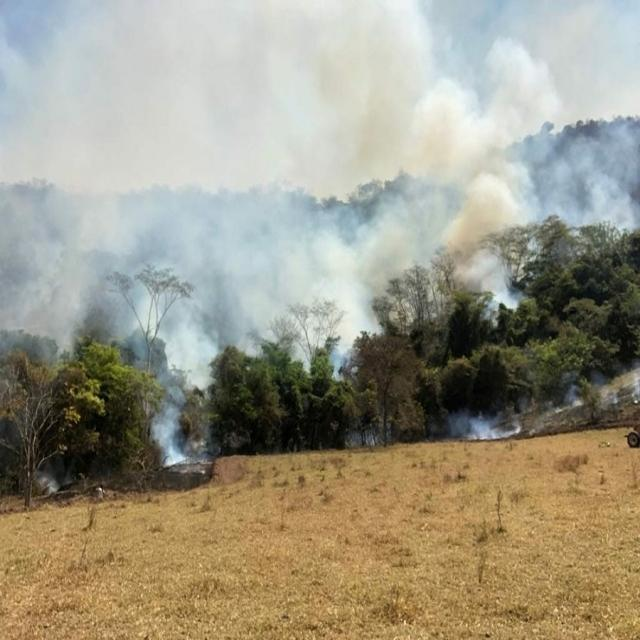Smoke: (0, 2, 640, 362), (113, 374, 215, 466), (451, 396, 529, 444)
